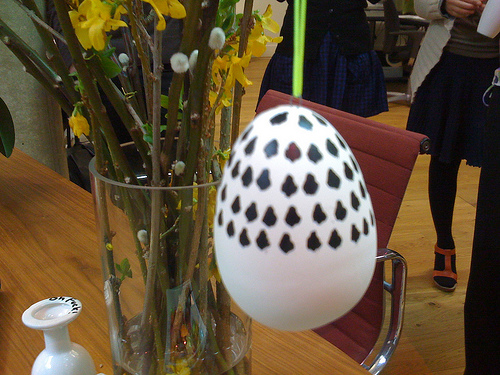egg: (213, 106, 380, 332)
